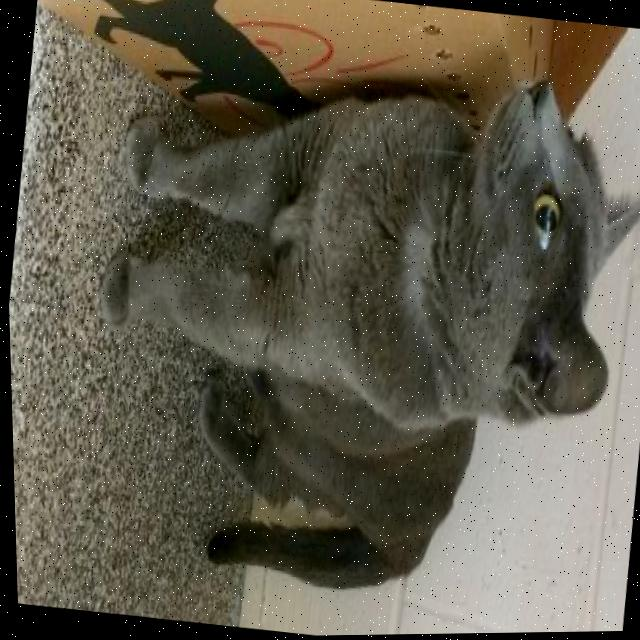Russian Blue: (56, 20, 640, 633)
